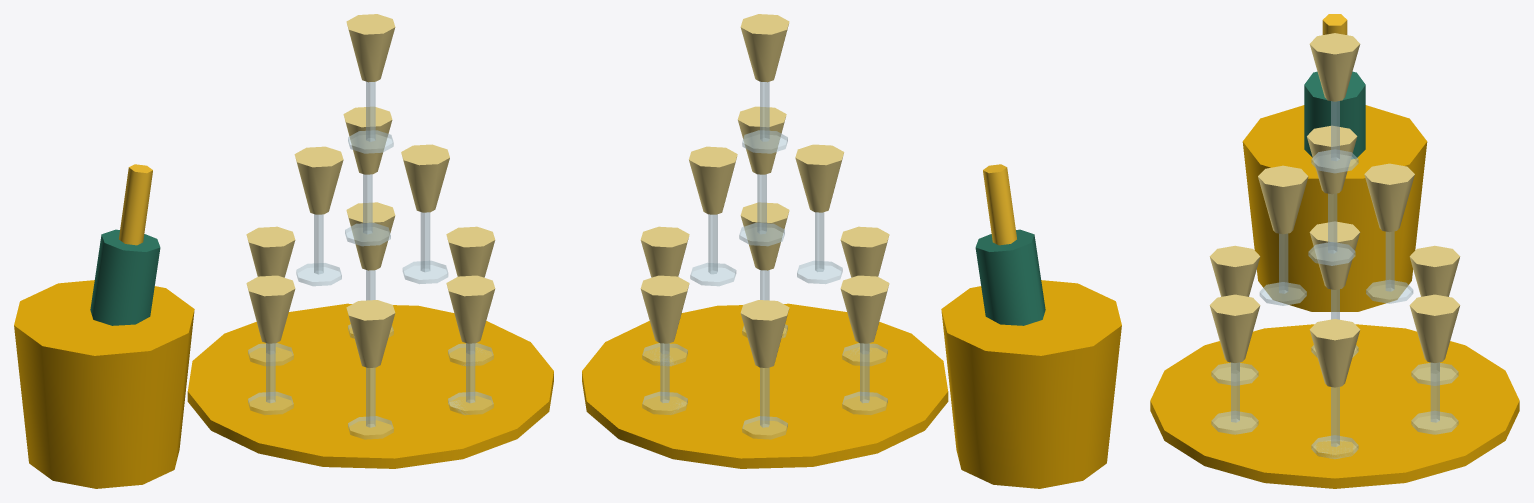
The model's file is station_special_ausstattung_2_2.glb.
The picture shows the model from 3 angles, left to right: view 1: azimuth 30°, elevation 25°; view 2: azimuth 150°, elevation 25°; view 3: azimuth 270°, elevation 25°; orthographic projection.
Visible parts, largest first — view 1: station_special_ausstattung_2_2; view 2: station_special_ausstattung_2_2; view 3: station_special_ausstattung_2_2.
Part boxes in pixels (x1,y1,x2,y2): station_special_ausstattung_2_2: (14, 14, 553, 488); station_special_ausstattung_2_2: (582, 14, 1121, 488); station_special_ausstattung_2_2: (1150, 14, 1519, 488).
Size of the model in its own units: 0.7541 by 0.5266 by 0.48.
